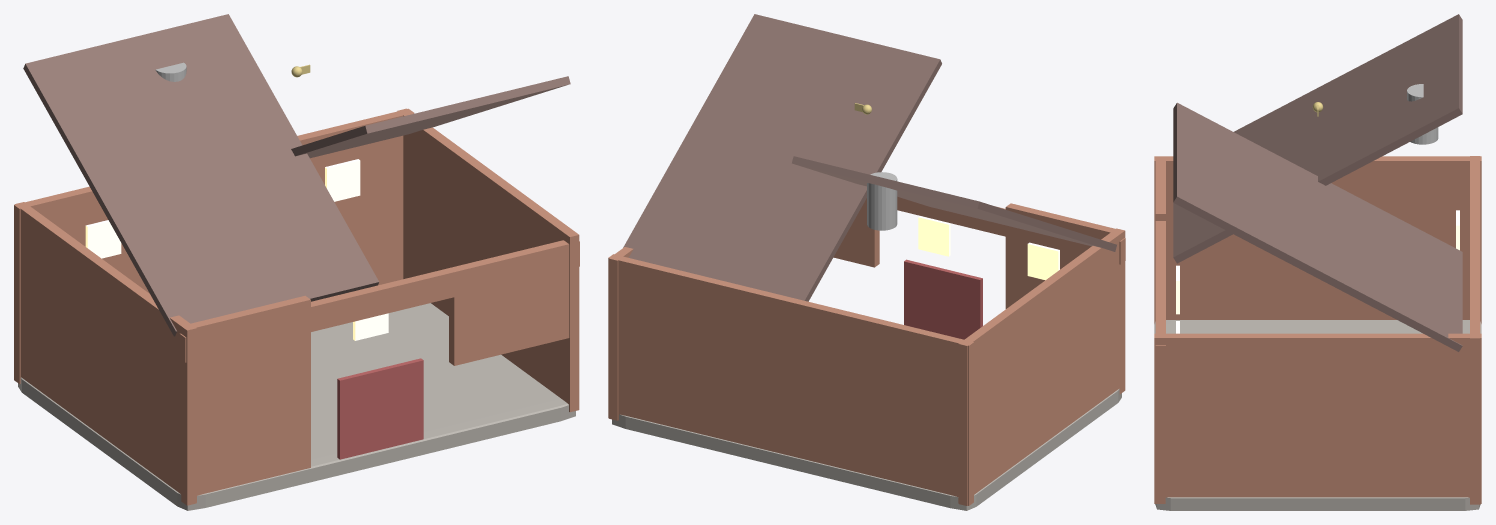
File: speicherhaus_lod1.fbx
The picture shows the model from 3 angles, left to right: view 1: azimuth 30°, elevation 25°; view 2: azimuth 150°, elevation 25°; view 3: azimuth 270°, elevation 25°; orthographic projection. The views are drawn at different scales.
Parts seen in each view (by area): view 1: Speicher_Dach_L_LOD1, Speicher_Wand_Links_LOD1, Speicher_Boden_LOD1, Speicher_Wand_VL_LOD1, Speicher_Wand_Rechts_LOD1, Speicher_Wand_Hinten_LOD1, Speicher_Wand_VF_LOD1, Speicher_Wand_VOR_LOD1, Speicher_Tuer_LOD1, Speicher_Dach_R_LOD1, Speicher_Fenster_2_LOD1, Speicher_Fenster_0_LOD1 (+1 smaller); view 2: Speicher_Wand_Hinten_LOD1, Speicher_Dach_R_LOD1, Speicher_Wand_Links_LOD1, Speicher_Boden_LOD1, Speicher_Tuer_LOD1, Speicher_Dach_L_LOD1, Speicher_Wand_VL_LOD1, Speicher_Wand_VF_LOD1, Speicher_Wand_Rechts_LOD1, Speicher_Wand_VOR_LOD1, Speicher_Schornstein_LOD1, Speicher_Fenster_4_LOD1 (+1 smaller); view 3: Speicher_Wand_Rechts_LOD1, Speicher_Dach_R_LOD1, Speicher_Wand_Links_LOD1, Speicher_Dach_L_LOD1, Speicher_Boden_LOD1, Speicher_Wand_Hinten_LOD1, Speicher_Wand_VF_LOD1, Speicher_Wand_VL_LOD1, Speicher_Schornstein_LOD1.
Boxes of the visible parts, <box> form: Speicher_Dach_L_LOD1: <box>23,14,378,336</box>; Speicher_Wand_Links_LOD1: <box>14,202,196,505</box>; Speicher_Boden_LOD1: <box>18,303,575,510</box>; Speicher_Wand_VL_LOD1: <box>186,295,310,502</box>; Speicher_Wand_Rechts_LOD1: <box>397,108,579,412</box>; Speicher_Wand_Hinten_LOD1: <box>14,108,414,384</box>; Speicher_Wand_VF_LOD1: <box>179,240,579,362</box>; Speicher_Wand_VOR_LOD1: <box>449,269,569,365</box>; Speicher_Tuer_LOD1: <box>337,358,423,459</box>; Speicher_Dach_R_LOD1: <box>291,76,570,158</box>; Speicher_Fenster_2_LOD1: <box>325,159,360,201</box>; Speicher_Fenster_0_LOD1: <box>85,220,121,258</box>; Speicher_Wand_Hinten_LOD1: <box>608,254,973,505</box>; Speicher_Dach_R_LOD1: <box>623,14,941,301</box>; Speicher_Wand_Links_LOD1: <box>958,228,1125,505</box>; Speicher_Boden_LOD1: <box>612,389,1121,510</box>; Speicher_Tuer_LOD1: <box>904,259,982,339</box>; Speicher_Dach_L_LOD1: <box>792,156,1116,251</box>; Speicher_Wand_VL_LOD1: <box>1005,203,1119,308</box>; Speicher_Wand_VF_LOD1: <box>865,196,1125,264</box>; Speicher_Wand_Rechts_LOD1: <box>608,247,633,420</box>; Speicher_Wand_VOR_LOD1: <box>833,198,879,267</box>; Speicher_Schornstein_LOD1: <box>867,172,897,230</box>; Speicher_Fenster_4_LOD1: <box>918,216,950,256</box>; Speicher_Wand_Rechts_LOD1: <box>1154,333,1481,503</box>; Speicher_Dach_R_LOD1: <box>1173,102,1462,351</box>; Speicher_Wand_Links_LOD1: <box>1154,156,1481,323</box>; Speicher_Dach_L_LOD1: <box>1173,14,1462,263</box>; Speicher_Boden_LOD1: <box>1154,320,1481,510</box>; Speicher_Wand_Hinten_LOD1: <box>1470,156,1480,504</box>; Speicher_Wand_VF_LOD1: <box>1155,221,1165,369</box>; Speicher_Wand_VL_LOD1: <box>1155,161,1165,220</box>; Speicher_Schornstein_LOD1: <box>1407,84,1438,144</box>.
Bounding box in the file's own units: 16.5 × 13.4 × 12.5.
